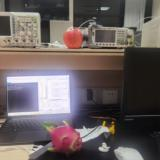pitaya: (44, 121, 82, 154), (64, 29, 83, 48)
